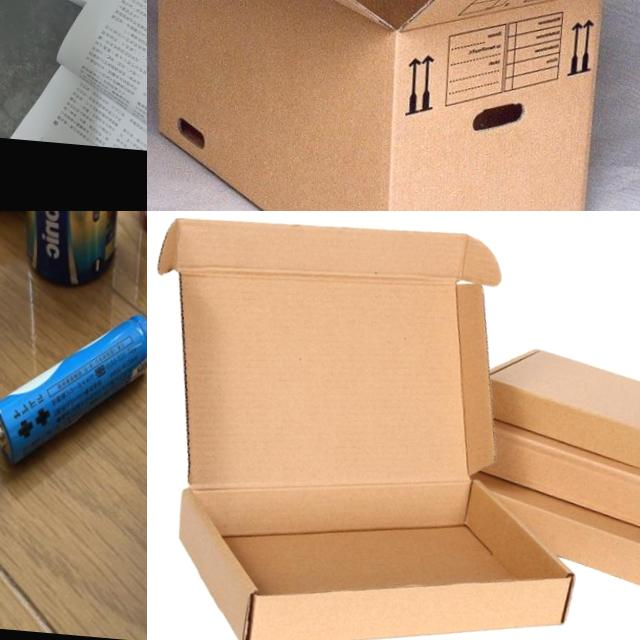bateria: (0, 298, 147, 473), (0, 211, 139, 293)
garrafa plástica: (147, 211, 604, 640), (147, 0, 640, 211), (458, 342, 640, 598)
papel: (0, 0, 147, 172)
